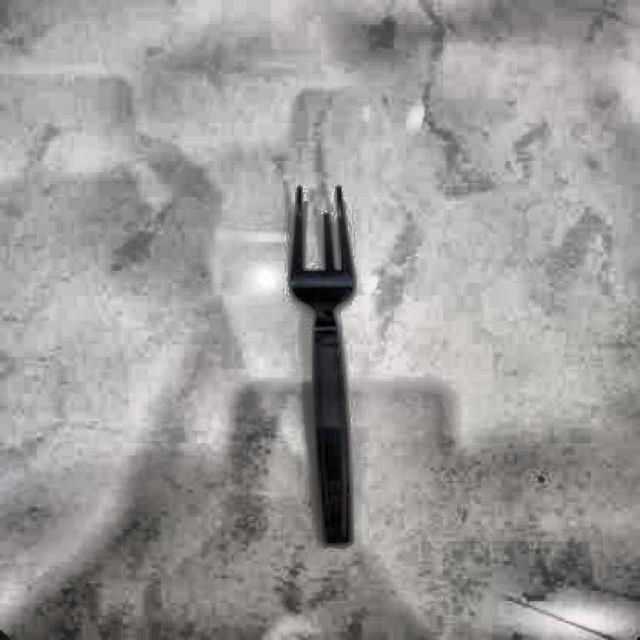plastic utensil: (276, 180, 372, 557)
